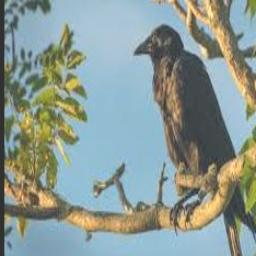Crow: (133, 24, 256, 256)
